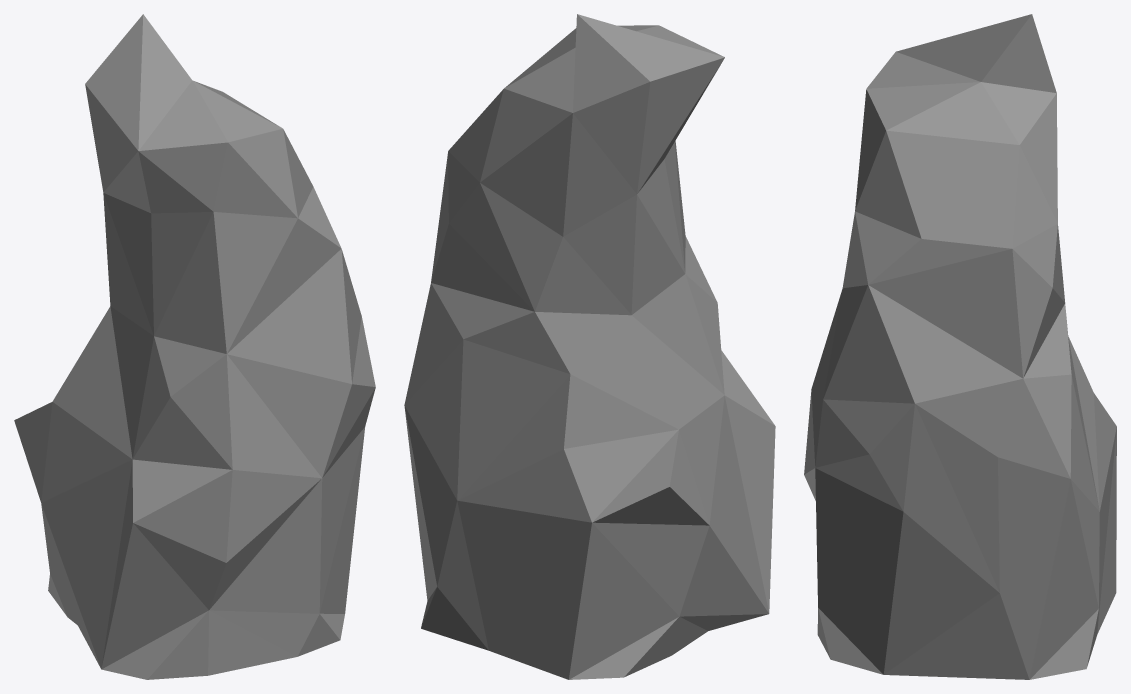
The model's file is Stone_2.fbx.
3 views of the same model, side by side, from view 1: azimuth 30°, elevation 25°; view 2: azimuth 150°, elevation 25°; view 3: azimuth 270°, elevation 25° (orthographic). The views are drawn at different scales.
Parts seen in each view (by area): view 1: Stone.001; view 2: Stone.001; view 3: Stone.001.
Boxes of the visible parts, x1=… form: Stone.001: x1=14, y1=14, x2=375, y2=679; Stone.001: x1=404, y1=14, x2=775, y2=679; Stone.001: x1=804, y1=14, x2=1116, y2=679.
Bounding box in the file's own units: 1.89 × 3.82 × 1.82.
